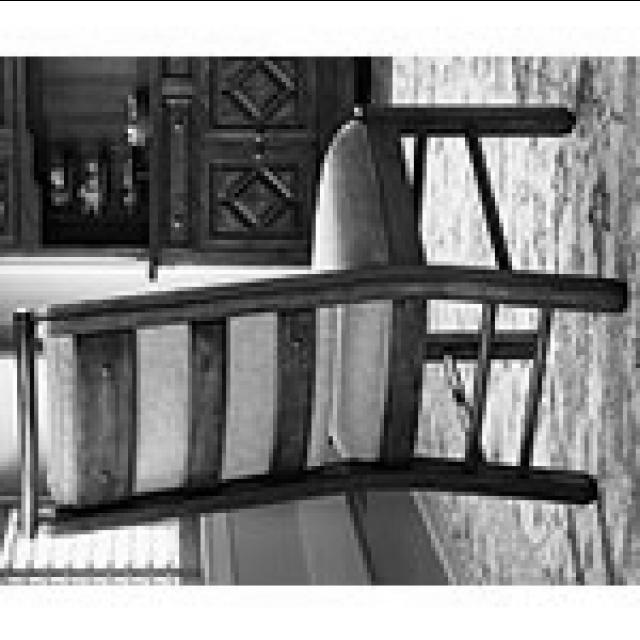chair: (38, 100, 630, 538)
